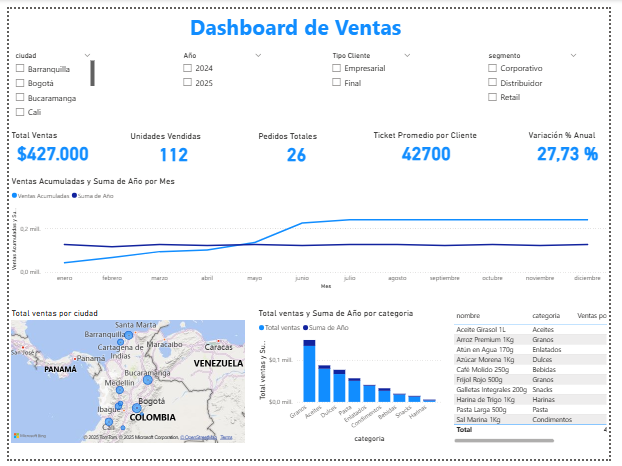

This screenshot's page, from the dashboard's own definition file:
{"tool":"powerbi","page":{"name":"Página 1","canvas":[1200,900],"ordinal":0},"visuals":[{"type":"card","title":"Total Ventas","fields":{"Values":["Tabla_Medidas.Total ventas"]},"box":[0,242.9,175.6,70.2],"z":0},{"type":"card","title":"Unidades Vendidas","fields":{"Values":["Tabla_Medidas.Unidades Vendidas"]},"box":[238.3,243.3,181.7,70],"z":1000},{"type":"card","title":"Pedidos Totales","fields":{"Values":["Tabla_Medidas.Pedidos Totales"]},"box":[493.3,243.3,161.7,70],"z":2000},{"type":"card","title":"Ticket Promedio por Cliente","fields":{"Values":["Tabla_Medidas.Tickets Promedio por Cliente"]},"box":[724.4,242.9,221,70.2],"z":3000},{"type":"textbox","box":[268.3,0,609.9,79.5],"z":4000},{"type":"card","title":"Variación % Anual","fields":{"Values":["Tabla_Medidas.Variacion % Anual"]},"box":[1033.2,242.9,166.8,70.2],"z":5000},{"type":"lineChart","fields":{"Category":["Calendario.Date.Variación.Jerarquía de fechas.Mes"],"Y":["Tabla_Medidas.Ventas Acumuladas","Sum(Calendario.Año)"]},"box":[0,334.2,1200,231.1],"z":6000},{"type":"columnChart","fields":{"Category":["productos.categoria"],"Y":["Tabla_Medidas.Total ventas","Sum(Calendario.Año)"]},"box":[493.2,598.5,376.1,275.1],"z":7000},{"type":"map","fields":{"Category":["clientes.ciudad"],"Size":["Tabla_Medidas.Total ventas"]},"box":[0,598.5,477.1,275.1],"z":8000},{"type":"tableEx","fields":{"Values":["productos.nombre","productos.categoria","Tabla_Medidas.Ventas por Producto","productos.Rango Precio"]},"box":[883.9,598.5,316.1,275.1],"z":9000},{"type":"slicer","fields":{"Values":["clientes.ciudad"]},"box":[0,80.5,175.6,150.7],"z":10000},{"type":"slicer","fields":{"Values":["Calendario.Año"]},"box":[336.6,80.5,181.5,150.7],"z":11000},{"type":"slicer","fields":{"Values":["clientes.Tipo Cliente"]},"box":[633.7,80.5,181.5,150.7],"z":12000},{"type":"slicer","fields":{"Values":["clientes.segmento"]},"box":[945.4,80.5,202,150.7],"z":13000}]}

Visuals, with their boxes in screenshot pixels (x1, y1, x2, y2), scaled from the page's 1200x900 canvas onto the 622x466 screenshot:
"Total Ventas" card: rect(0, 126, 91, 162)
"Unidades Vendidas" card: rect(124, 126, 218, 162)
"Pedidos Totales" card: rect(256, 126, 340, 162)
"Ticket Promedio por Cliente" card: rect(375, 126, 490, 162)
textbox: rect(139, 0, 455, 41)
"Variación % Anual" card: rect(536, 126, 621, 162)
lineChart - Calendario.Date.Variación.Jerarquía de fechas.Mes x Tabla_Medidas.Ventas Acumuladas: rect(0, 173, 621, 293)
columnChart - productos.categoria x Tabla_Medidas.Total ventas: rect(256, 310, 451, 452)
map - clientes.ciudad x Tabla_Medidas.Total ventas: rect(0, 310, 247, 452)
tableEx - productos.nombre x productos.categoria: rect(458, 310, 621, 452)
slicer - clientes.ciudad: rect(0, 42, 91, 120)
slicer - Calendario.Año: rect(174, 42, 269, 120)
slicer - clientes.Tipo Cliente: rect(328, 42, 423, 120)
slicer - clientes.segmento: rect(490, 42, 595, 120)
